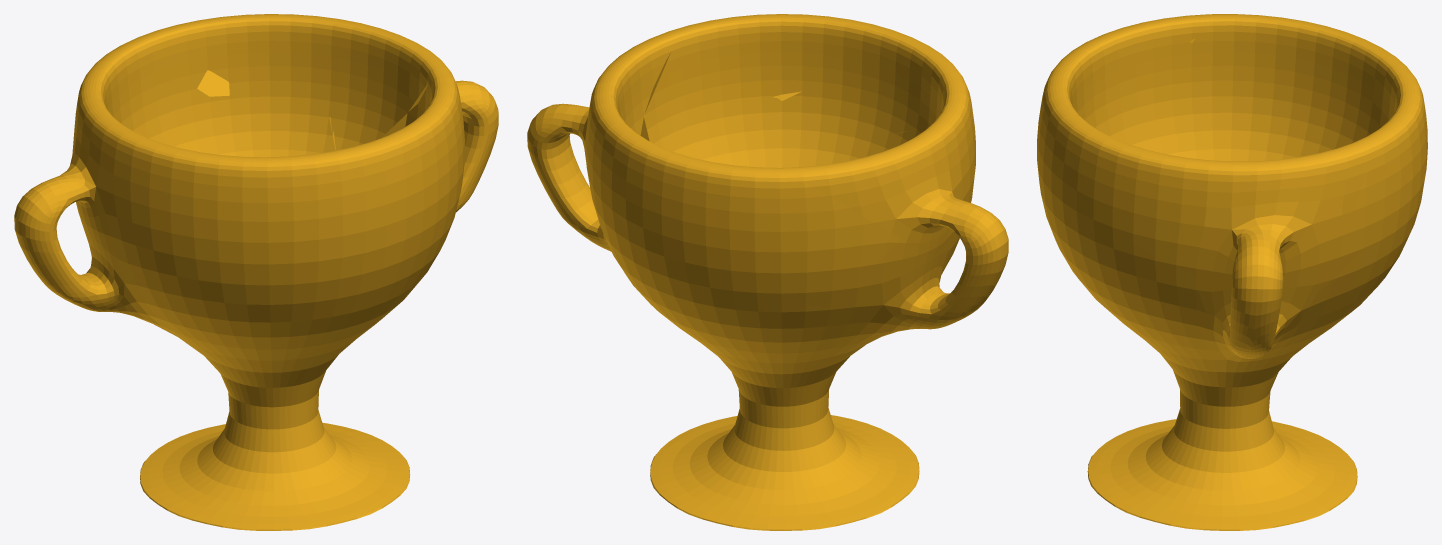
The model's file is Coupe.fbx.
3 views of the same model, side by side, from view 1: azimuth 30°, elevation 25°; view 2: azimuth 150°, elevation 25°; view 3: azimuth 270°, elevation 25° (orthographic).
Parts seen in each view (by area): view 1: Coupe, Coupe04, Coupe02, Coupe05, Coupe01, Coupe03, Coupe06; view 2: Coupe, Coupe06, Coupe03, Coupe05, Coupe04, Coupe01, Coupe02; view 3: Coupe, Coupe01, Coupe05, Coupe03, Coupe04, Coupe02, Coupe06.
Boxes of the visible parts, <box> form: Coupe: <box>20,109,463,530</box>; Coupe04: <box>112,127,463,263</box>; Coupe02: <box>128,14,335,152</box>; Coupe05: <box>14,59,228,252</box>; Coupe01: <box>314,16,498,212</box>; Coupe03: <box>274,71,464,198</box>; Coupe06: <box>98,37,231,153</box>; Coupe: <box>597,116,1004,530</box>; Coupe06: <box>609,167,901,308</box>; Coupe03: <box>644,14,931,148</box>; Coupe05: <box>796,126,1008,275</box>; Coupe04: <box>696,46,975,145</box>; Coupe01: <box>527,35,674,251</box>; Coupe02: <box>589,112,752,220</box>; Coupe: <box>1039,101,1424,530</box>; Coupe01: <box>1174,143,1367,361</box>; Coupe05: <box>1097,14,1382,138</box>; Coupe03: <box>1038,51,1192,273</box>; Coupe04: <box>1037,14,1226,243</box>; Coupe02: <box>1317,66,1424,292</box>; Coupe06: <box>1304,48,1427,218</box>.
Size of the model in its own units: 76.42 by 60.05 by 54.51.
